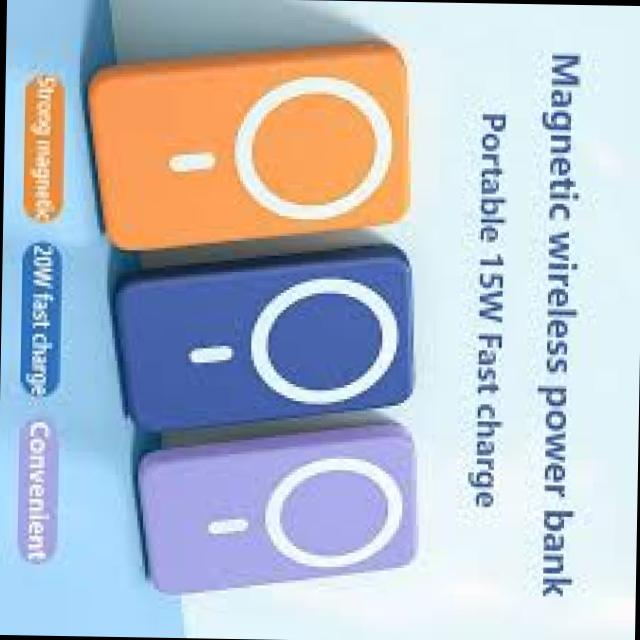portable-charger: (80, 34, 410, 264), (108, 242, 418, 442), (136, 410, 424, 606)
